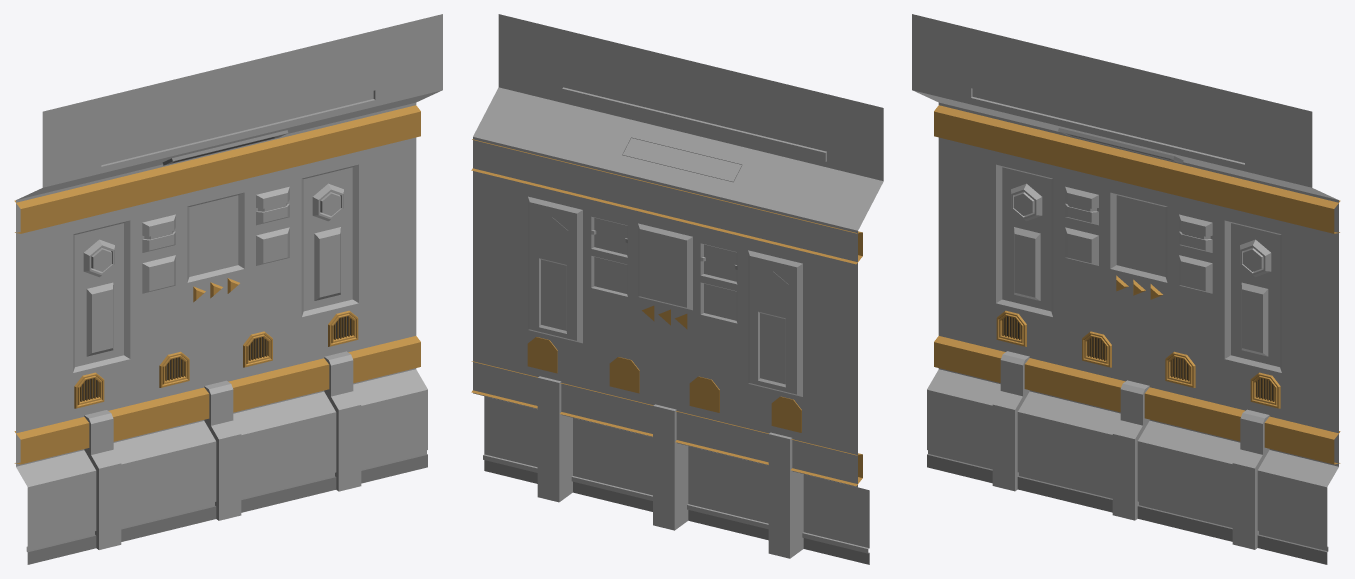
Rendered from wall_3.glb.
The picture shows the model from 3 angles, left to right: view 1: azimuth 30°, elevation 25°; view 2: azimuth 150°, elevation 25°; view 3: azimuth 330°, elevation 25°; orthographic projection. The views are drawn at different scales.
Visible parts, largest first — view 1: Wall_3; view 2: Wall_3; view 3: Wall_3.
Part boxes in pixels (box(x1,y1,x2,y2)): Wall_3: box(14, 14, 442, 564); Wall_3: box(471, 14, 883, 564); Wall_3: box(912, 14, 1340, 564).
Size of the model in its own units: 4 by 4.43 by 0.523.
